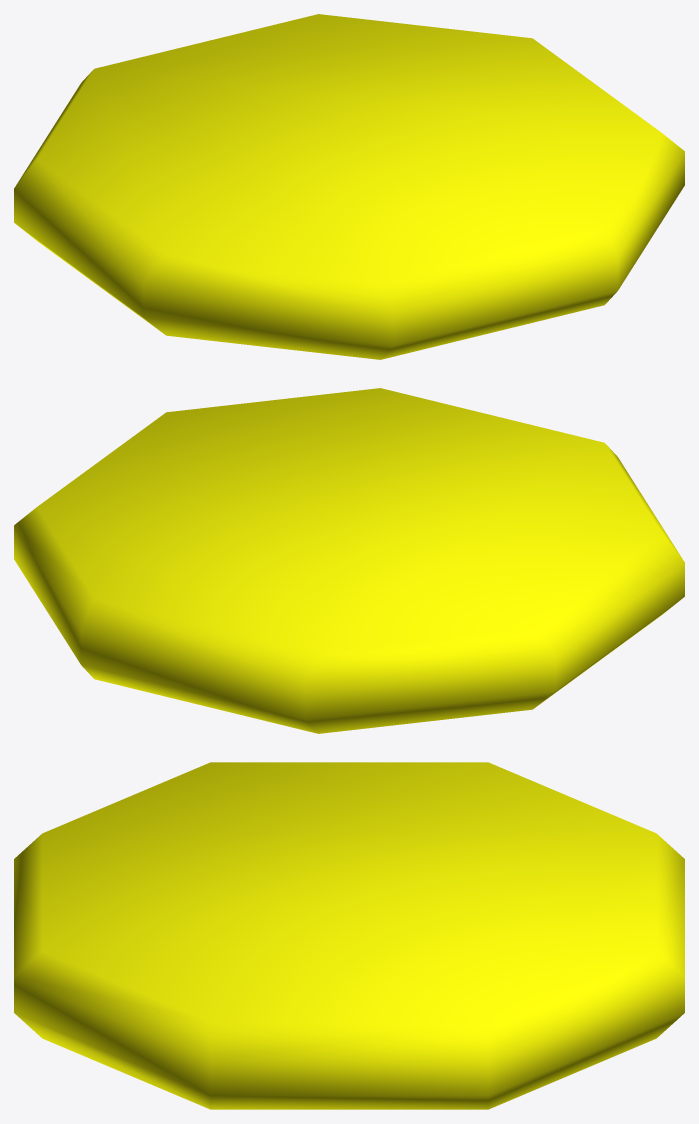
The model's file is A0509_5_0.bbox.gltf.
3 renders of one model, top to bottom at view 1: azimuth 30°, elevation 25°; view 2: azimuth 150°, elevation 25°; view 3: azimuth 270°, elevation 25°, orthographic. The views are drawn at different scales.
Visible parts, largest first — view 1: A0509_5_0.bbox; view 2: A0509_5_0.bbox; view 3: A0509_5_0.bbox.
Part boxes in pixels (left/top/right/bottom): A0509_5_0.bbox: left=14, top=14, right=684, bottom=359; A0509_5_0.bbox: left=14, top=388, right=684, bottom=733; A0509_5_0.bbox: left=14, top=762, right=684, bottom=1109.
Size of the model in its own units: 90.23 by 13 by 90.23.
